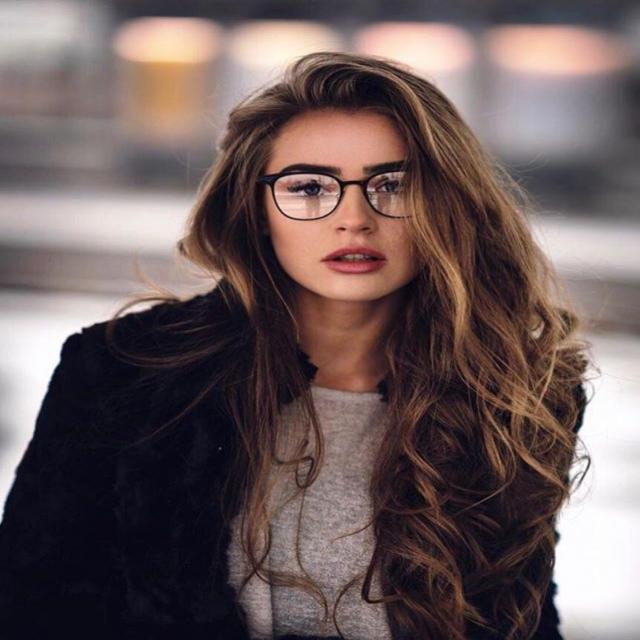Glasses: (261, 169, 423, 222)
